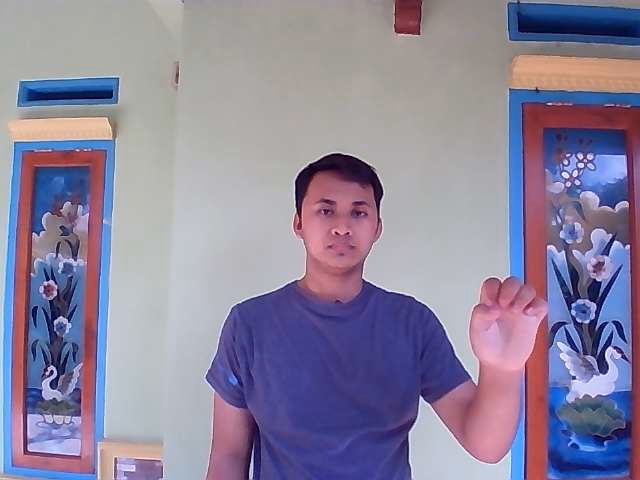E: (465, 273, 548, 385)
